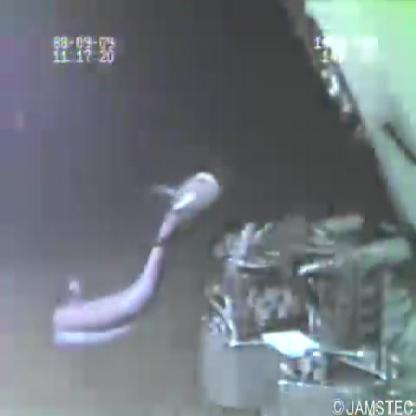Bio: (44, 162, 228, 358)
Rov: (191, 199, 416, 415)
